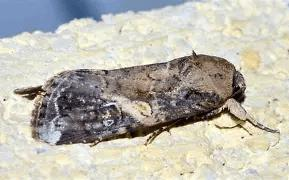army worm adult: (9, 48, 285, 151)
